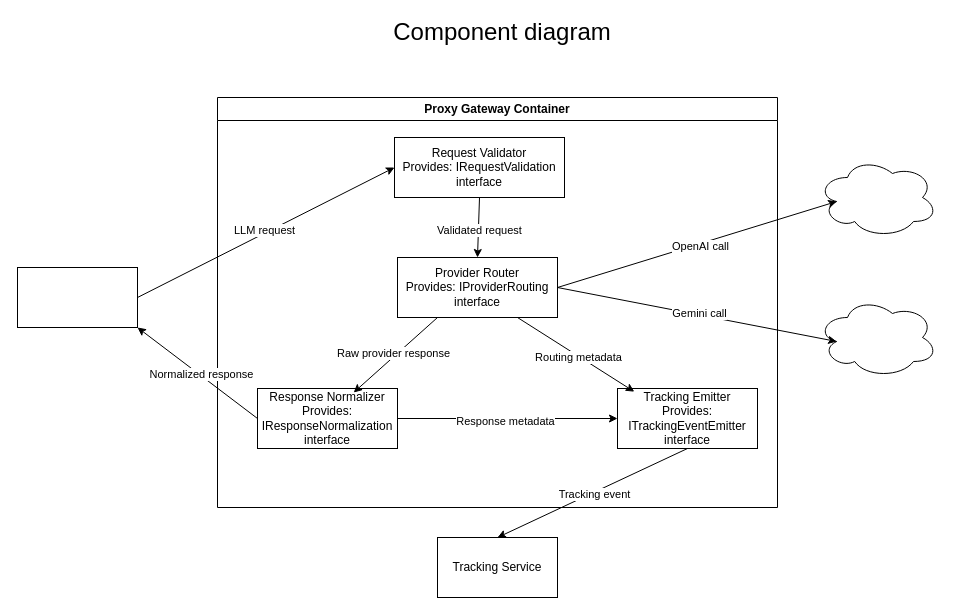
The diagram is 955 pixels wide and 615 high, and some of its shapes have lost their labels. The box of each missing label's shape, as (x1, y1, x2, y2) in pixels:
Application Client: (16, 266, 138, 328)
Gemini API: (816, 296, 938, 378)
OpenAI API: (816, 156, 938, 238)
